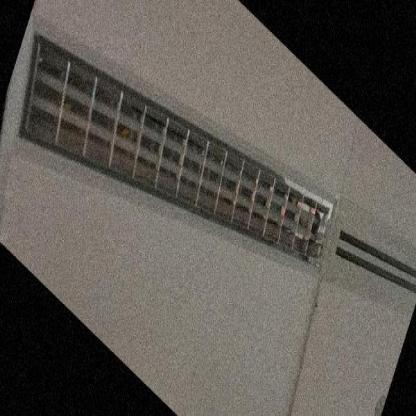light_off: (3, 0, 346, 402)
